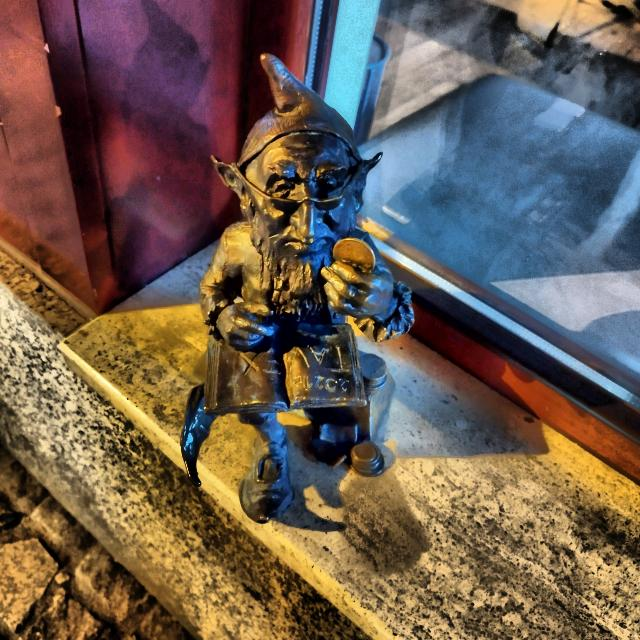Gaugan: (181, 55, 414, 524)
